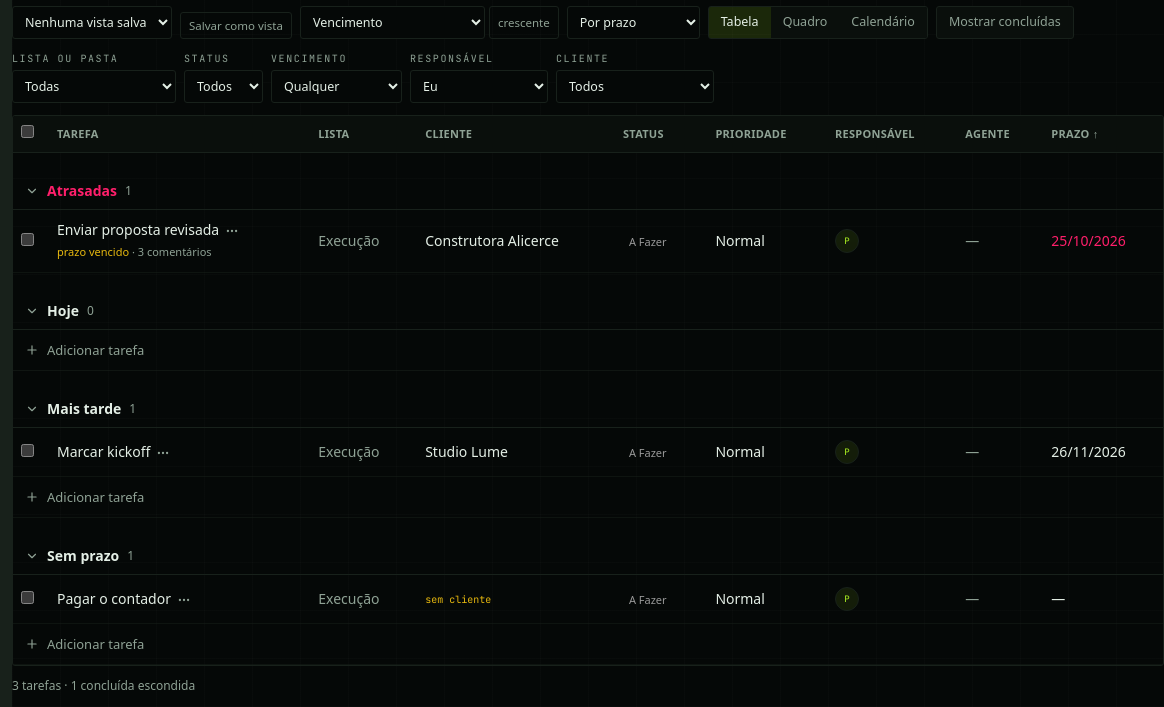
Test: F4: o calendário é uma das formas de ver Minhas tarefas › troca para o calendário, guarda a escolha e arrastar grava o prazo com a versão lida
Click the button with test id "caixa-forma-calendario". click: (883, 23)
box: [839,7,927,38]
(page scrolled)
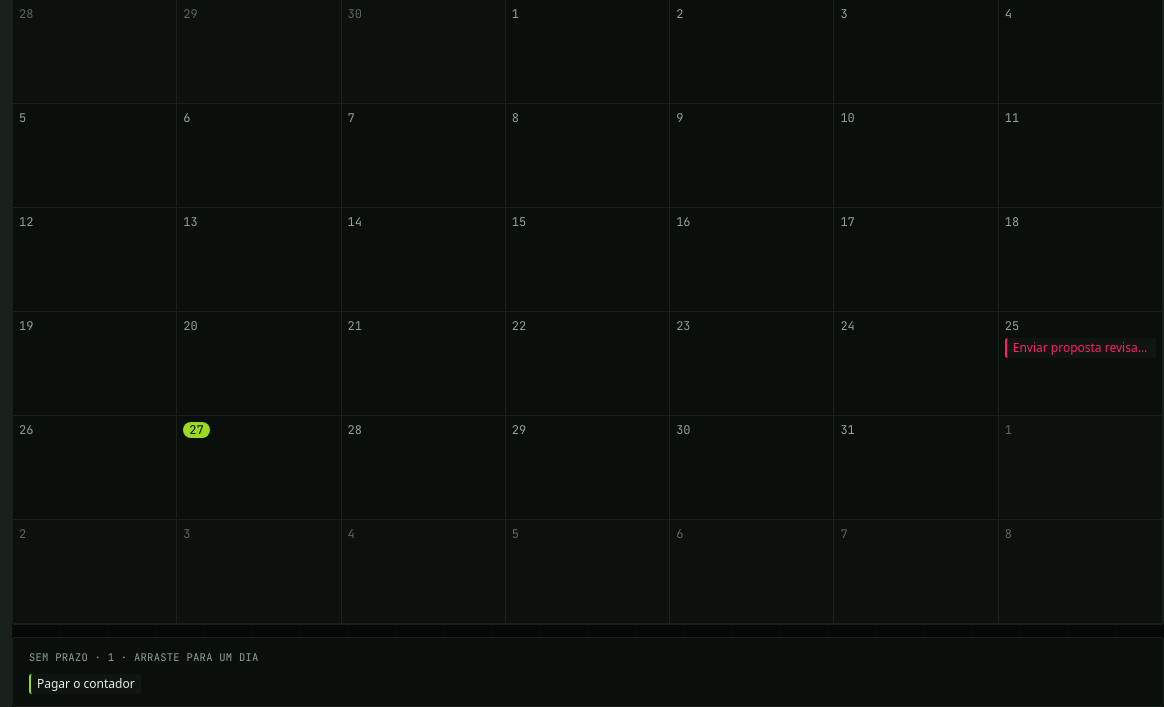
Check: the element with test id "caixa-calendario-sem-prazo" shows "Pagar o contador", box [29,674,141,694]
